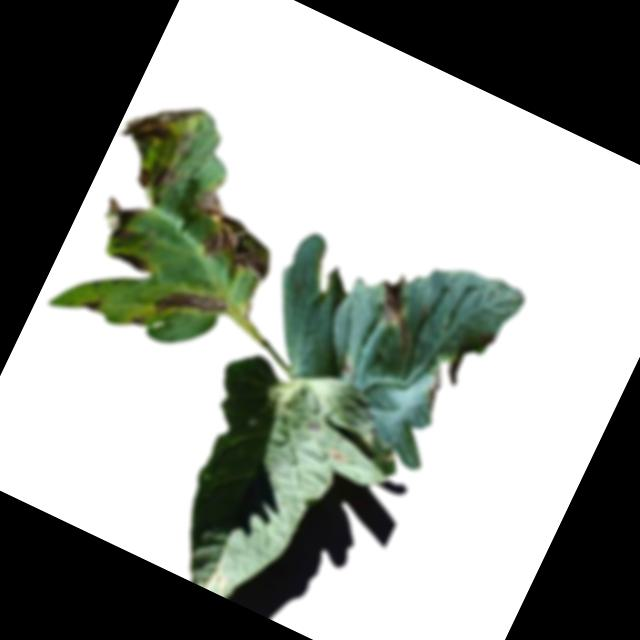Early_blight: (175, 185, 290, 285), (117, 81, 203, 166), (358, 273, 434, 355), (147, 268, 231, 341), (90, 190, 150, 249), (131, 151, 183, 202), (107, 245, 152, 276), (78, 293, 105, 318), (323, 446, 351, 468), (127, 312, 147, 331), (302, 418, 323, 436)
